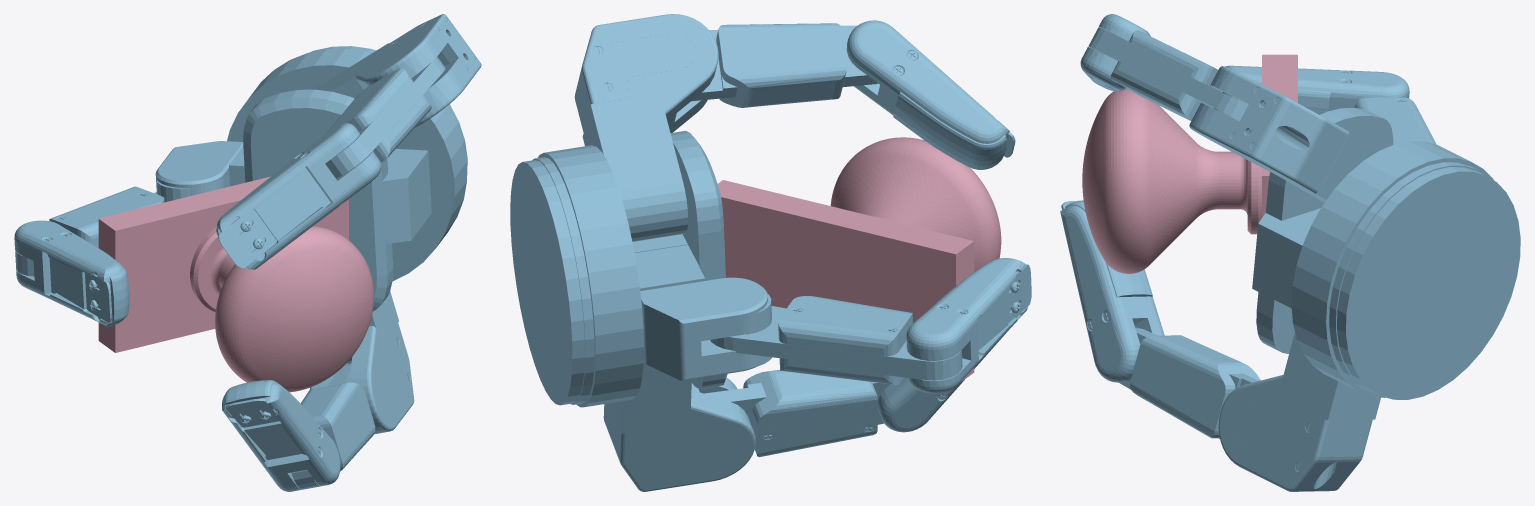
The picture shows the model from 3 angles, left to right: view 1: azimuth 30°, elevation 25°; view 2: azimuth 150°, elevation 25°; view 3: azimuth 270°, elevation 25°; orthographic projection. The views are drawn at different scales.
Parts seen in each view (by area): view 1: world; view 2: world; view 3: world.
Part boxes in pixels (x1,y1,x2,y2): world: (14,14,481,491); world: (510,14,1031,491); world: (1060,14,1520,491).
Bounding box in the file's own units: 0.1853 × 0.1654 × 0.1601.
